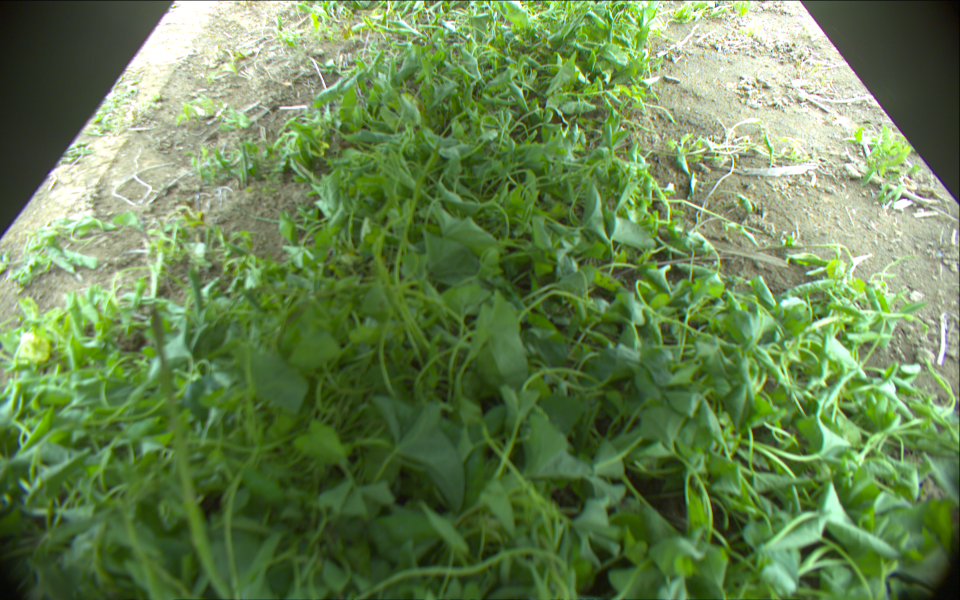aspa: (148, 310, 232, 600)
